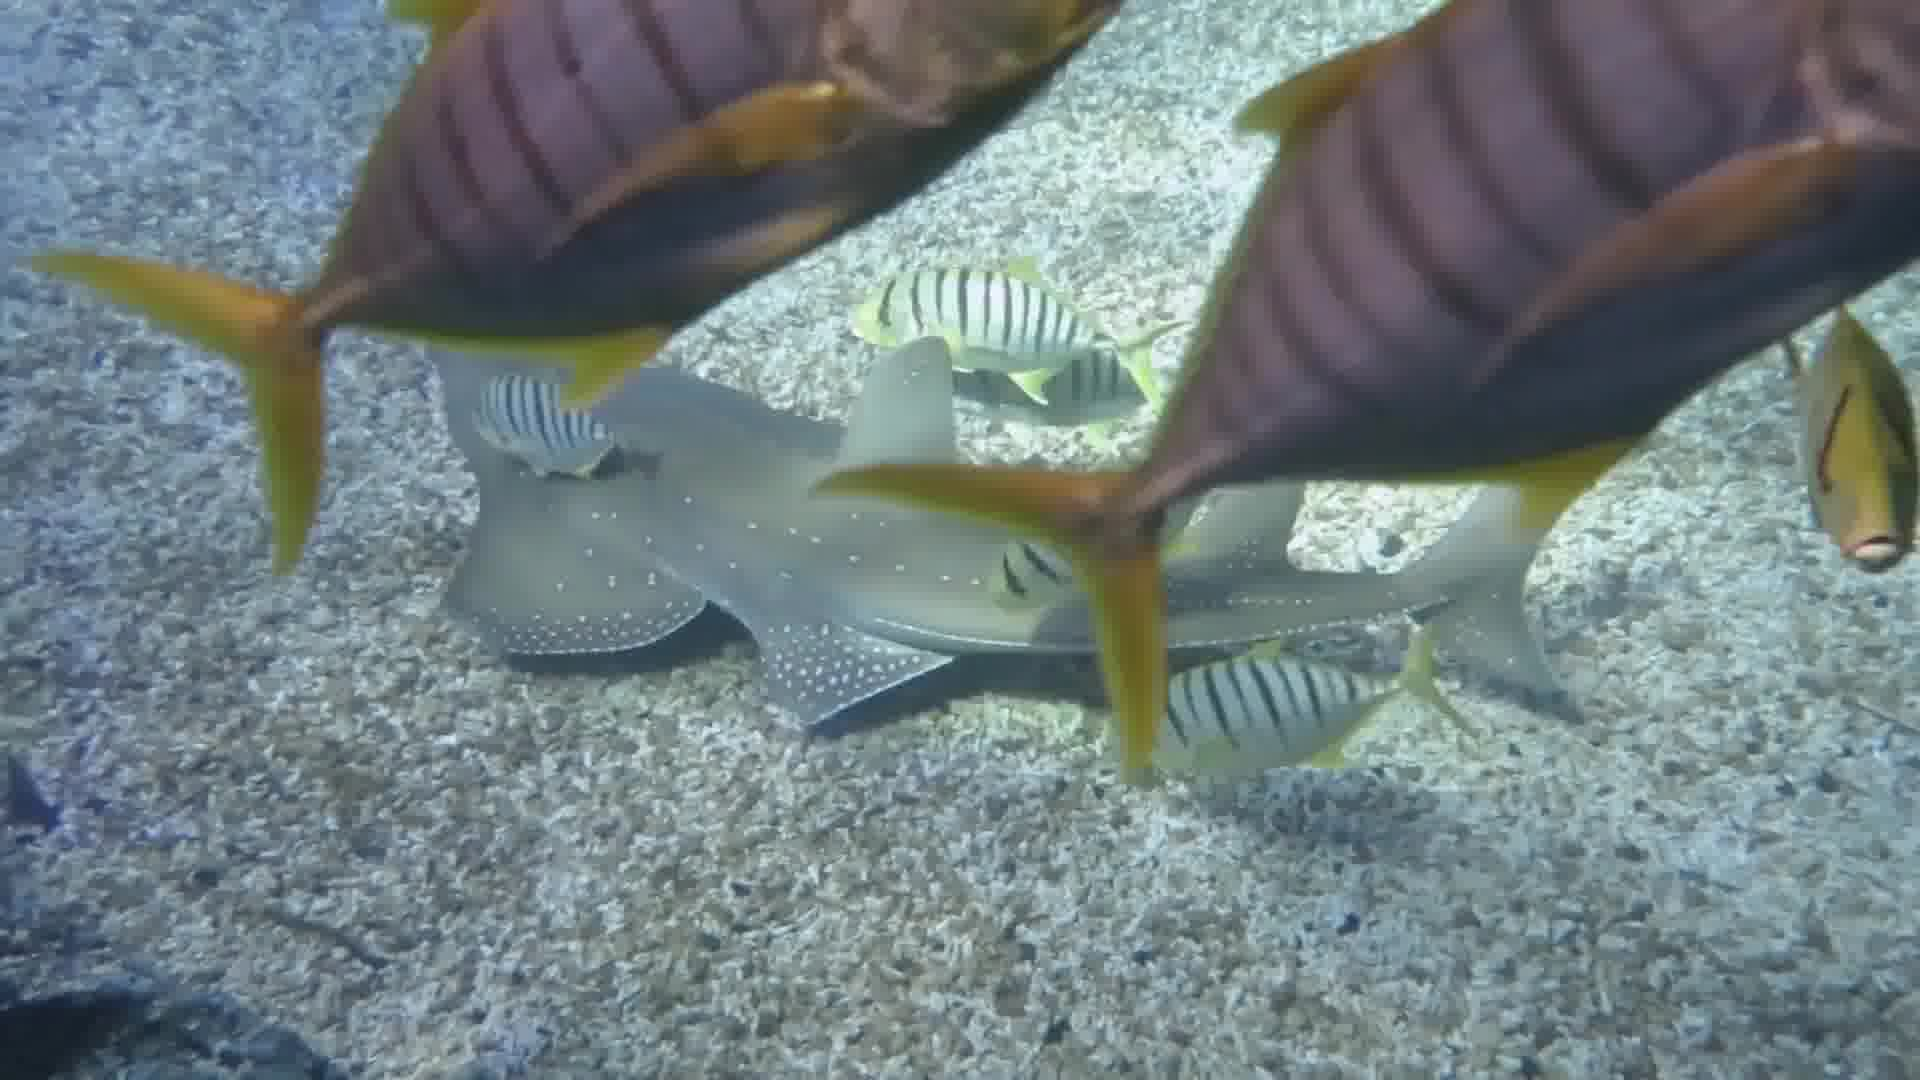Rhychobatus djiddensis: (452, 332, 1002, 742)
